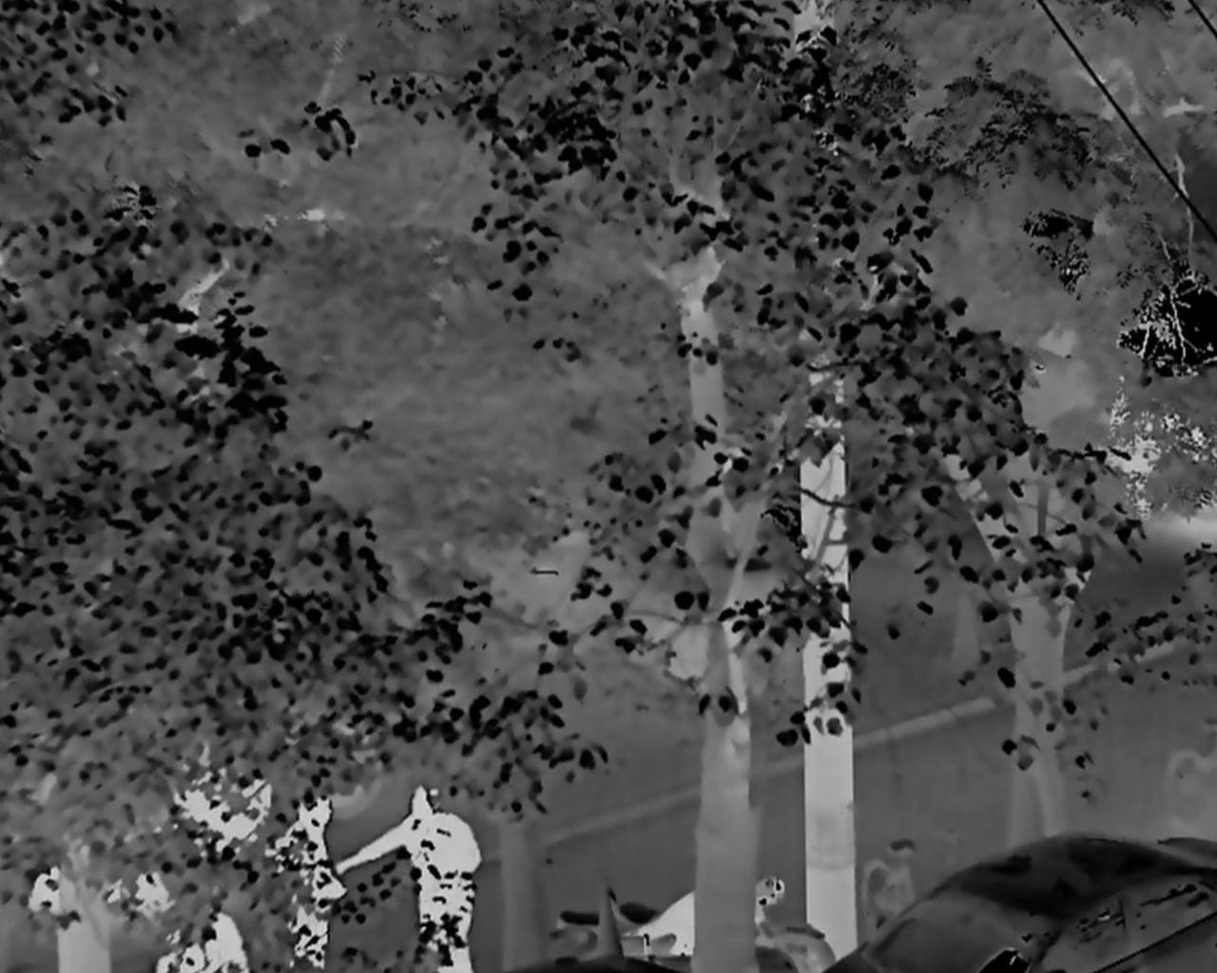person: (331, 784, 483, 973), (272, 792, 344, 973)
